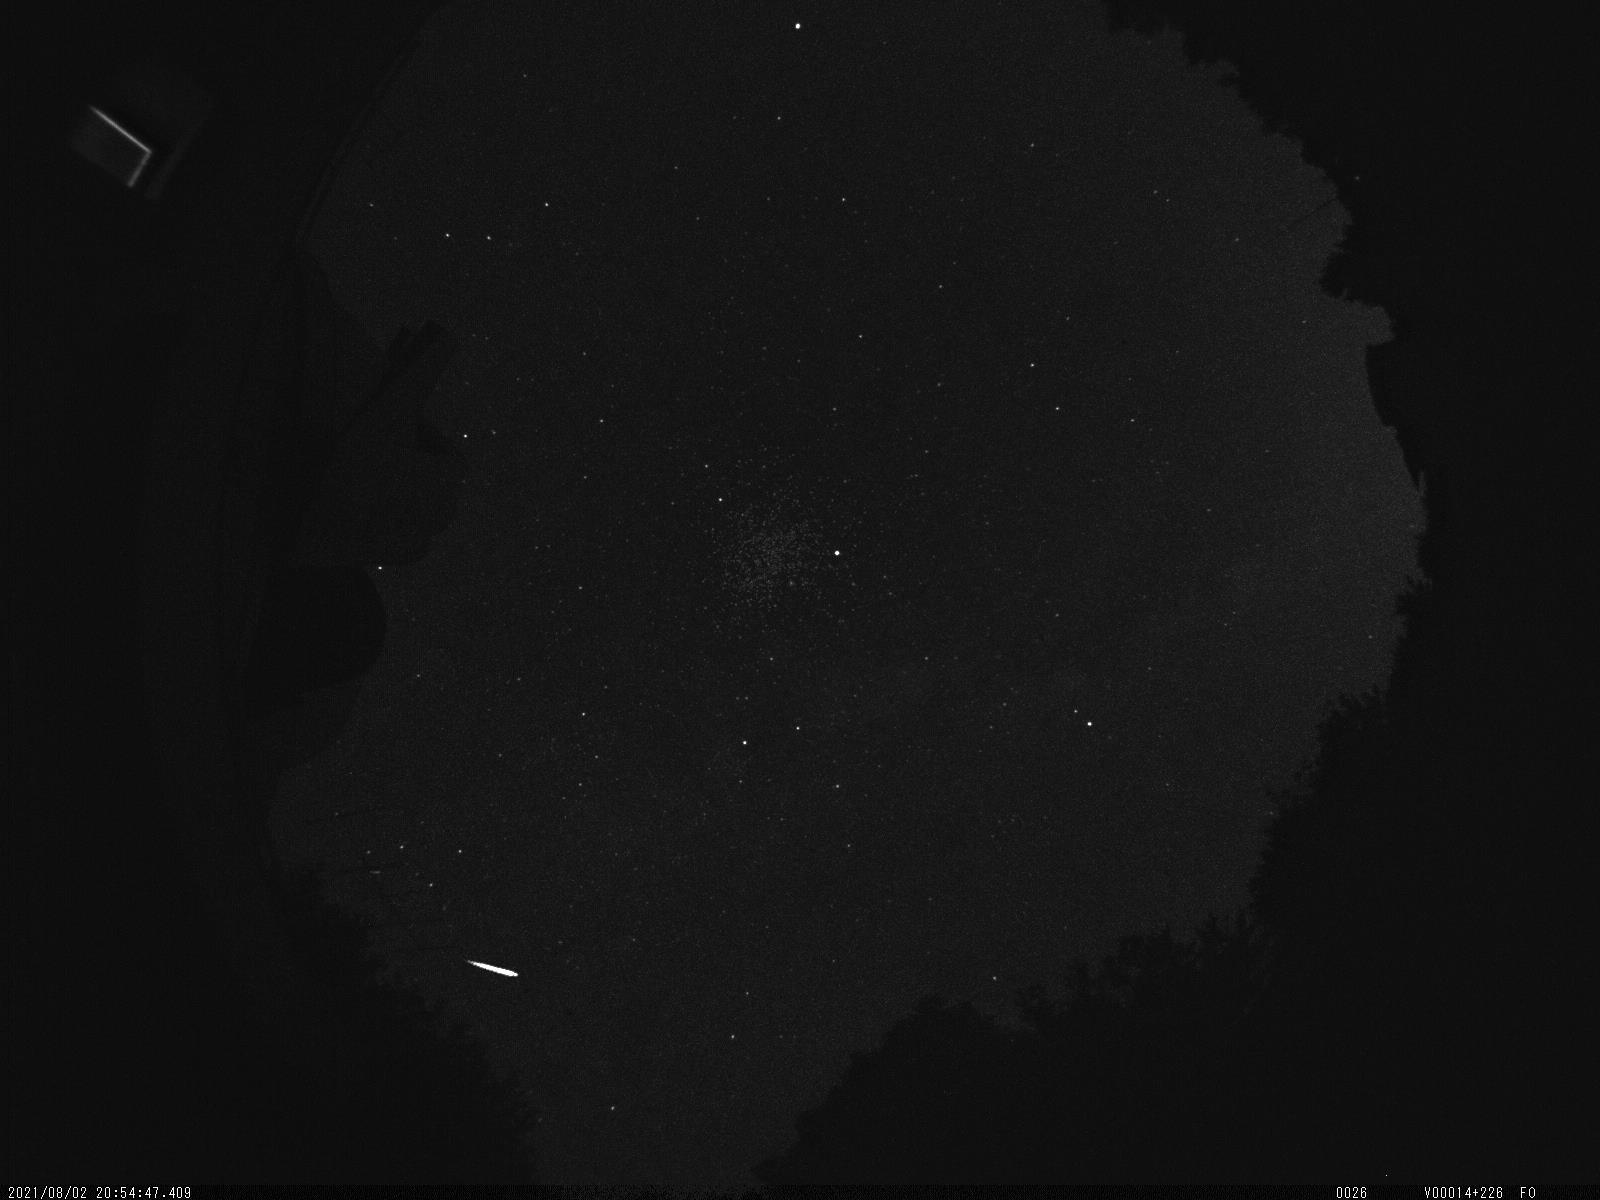Meteor: (455, 952, 530, 989)
